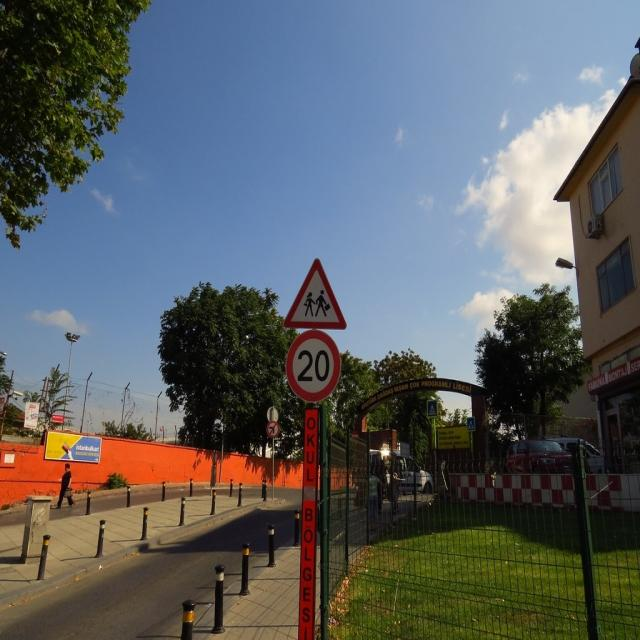forb_speed_over_20: (285, 330, 342, 405)
